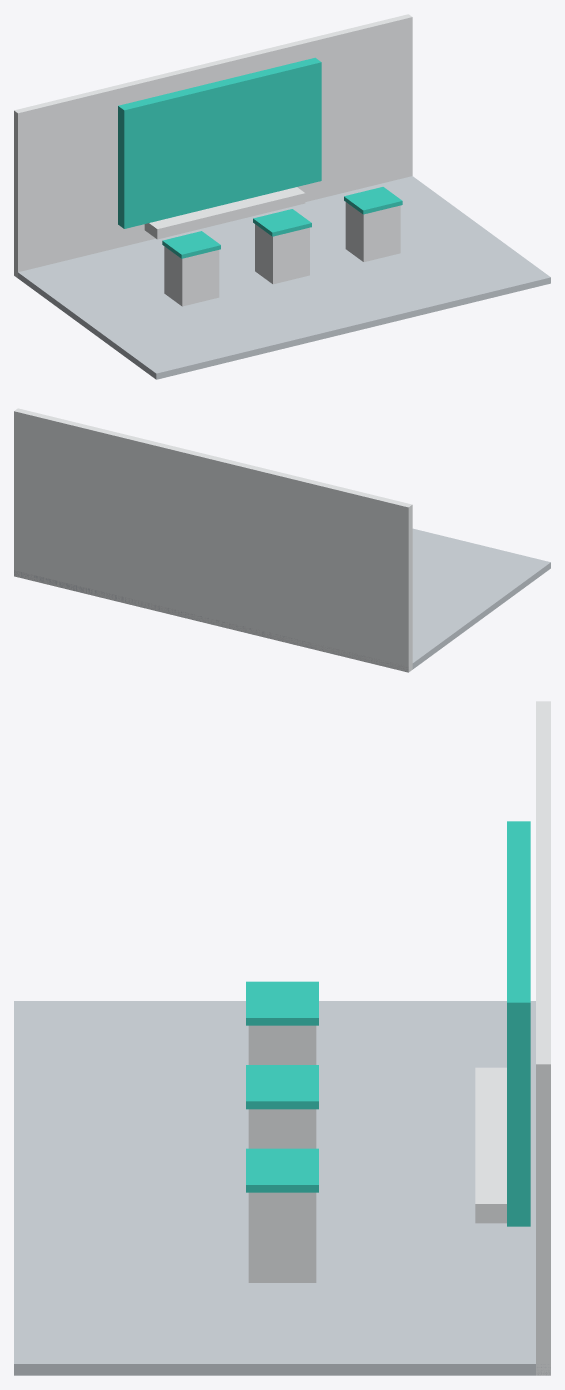
The picture shows the model from 3 angles, top to bottom: view 1: azimuth 30°, elevation 25°; view 2: azimuth 150°, elevation 25°; view 3: azimuth 270°, elevation 25°; orthographic projection. The views are drawn at different scales.
Parts seen in each view (by area): view 1: Exhibition Booth Concept; view 2: Exhibition Booth Concept; view 3: Exhibition Booth Concept.
Boxes of the visible parts, box(x1,y1,x2,y2) form: Exhibition Booth Concept: box(14, 14, 550, 379); Exhibition Booth Concept: box(14, 408, 550, 672); Exhibition Booth Concept: box(14, 701, 550, 1375).
Bounding box in the file's own units: 8 × 3.2 × 5.
